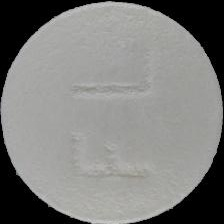21695-650: (0, 0, 224, 224)
